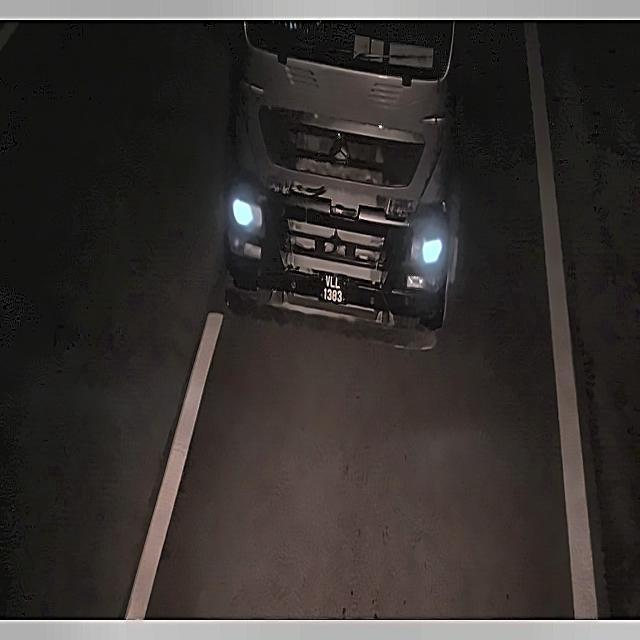car: (313, 267, 353, 315)
